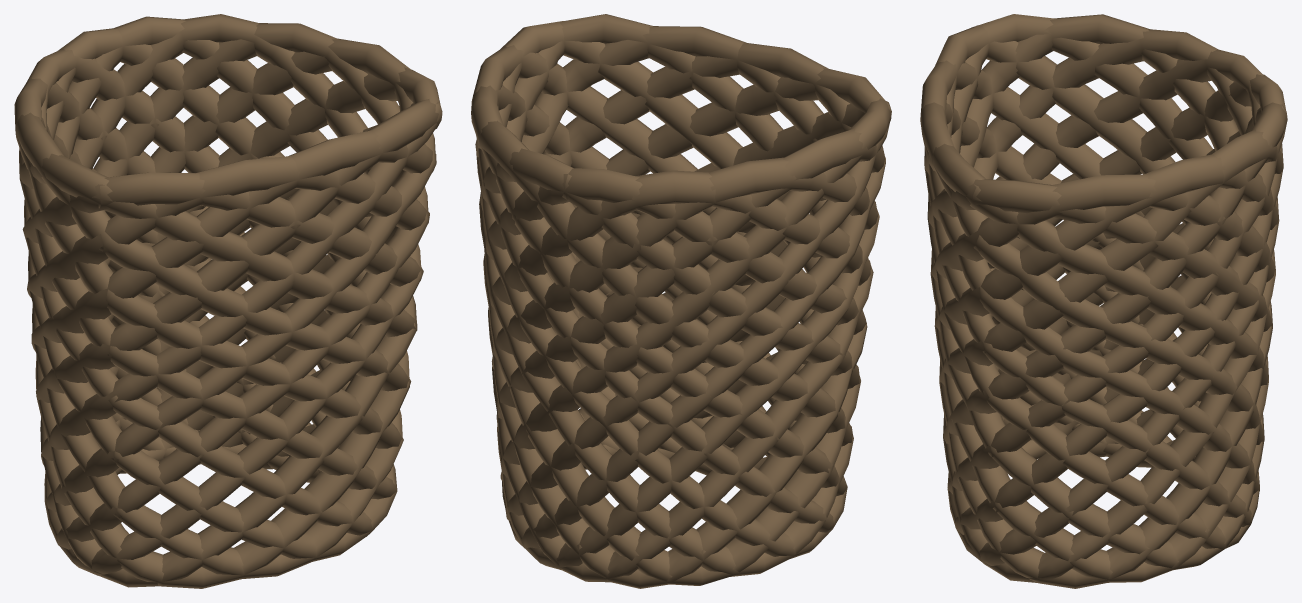
The model's file is Cesta (1).fbx.
3 views of the same model, side by side, from view 1: azimuth 30°, elevation 25°; view 2: azimuth 150°, elevation 25°; view 3: azimuth 270°, elevation 25° (orthographic). The views are drawn at different scales.
Parts seen in each view (by area): view 1: Celtic.003; view 2: Celtic.003; view 3: Celtic.003.
Boxes of the visible parts, x1,y1,x2,y2 form: Celtic.003: (14,14,442,588); Celtic.003: (471,14,891,588); Celtic.003: (920,14,1287,588).
Bounding box in the file's own units: 1.35 × 1.51 × 1.18.
